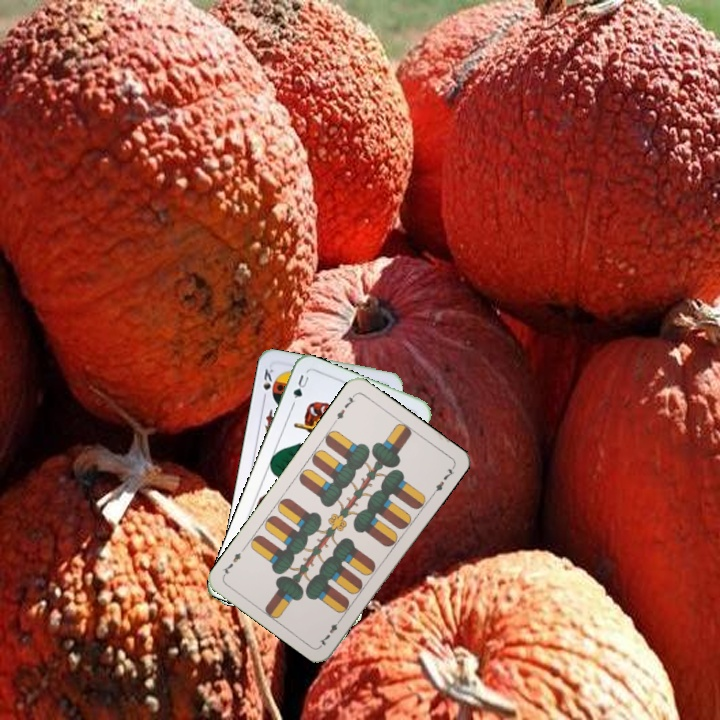E7: (315, 613, 345, 648), (330, 390, 358, 425)
GU: (288, 371, 311, 408)
SK: (259, 364, 277, 404)
